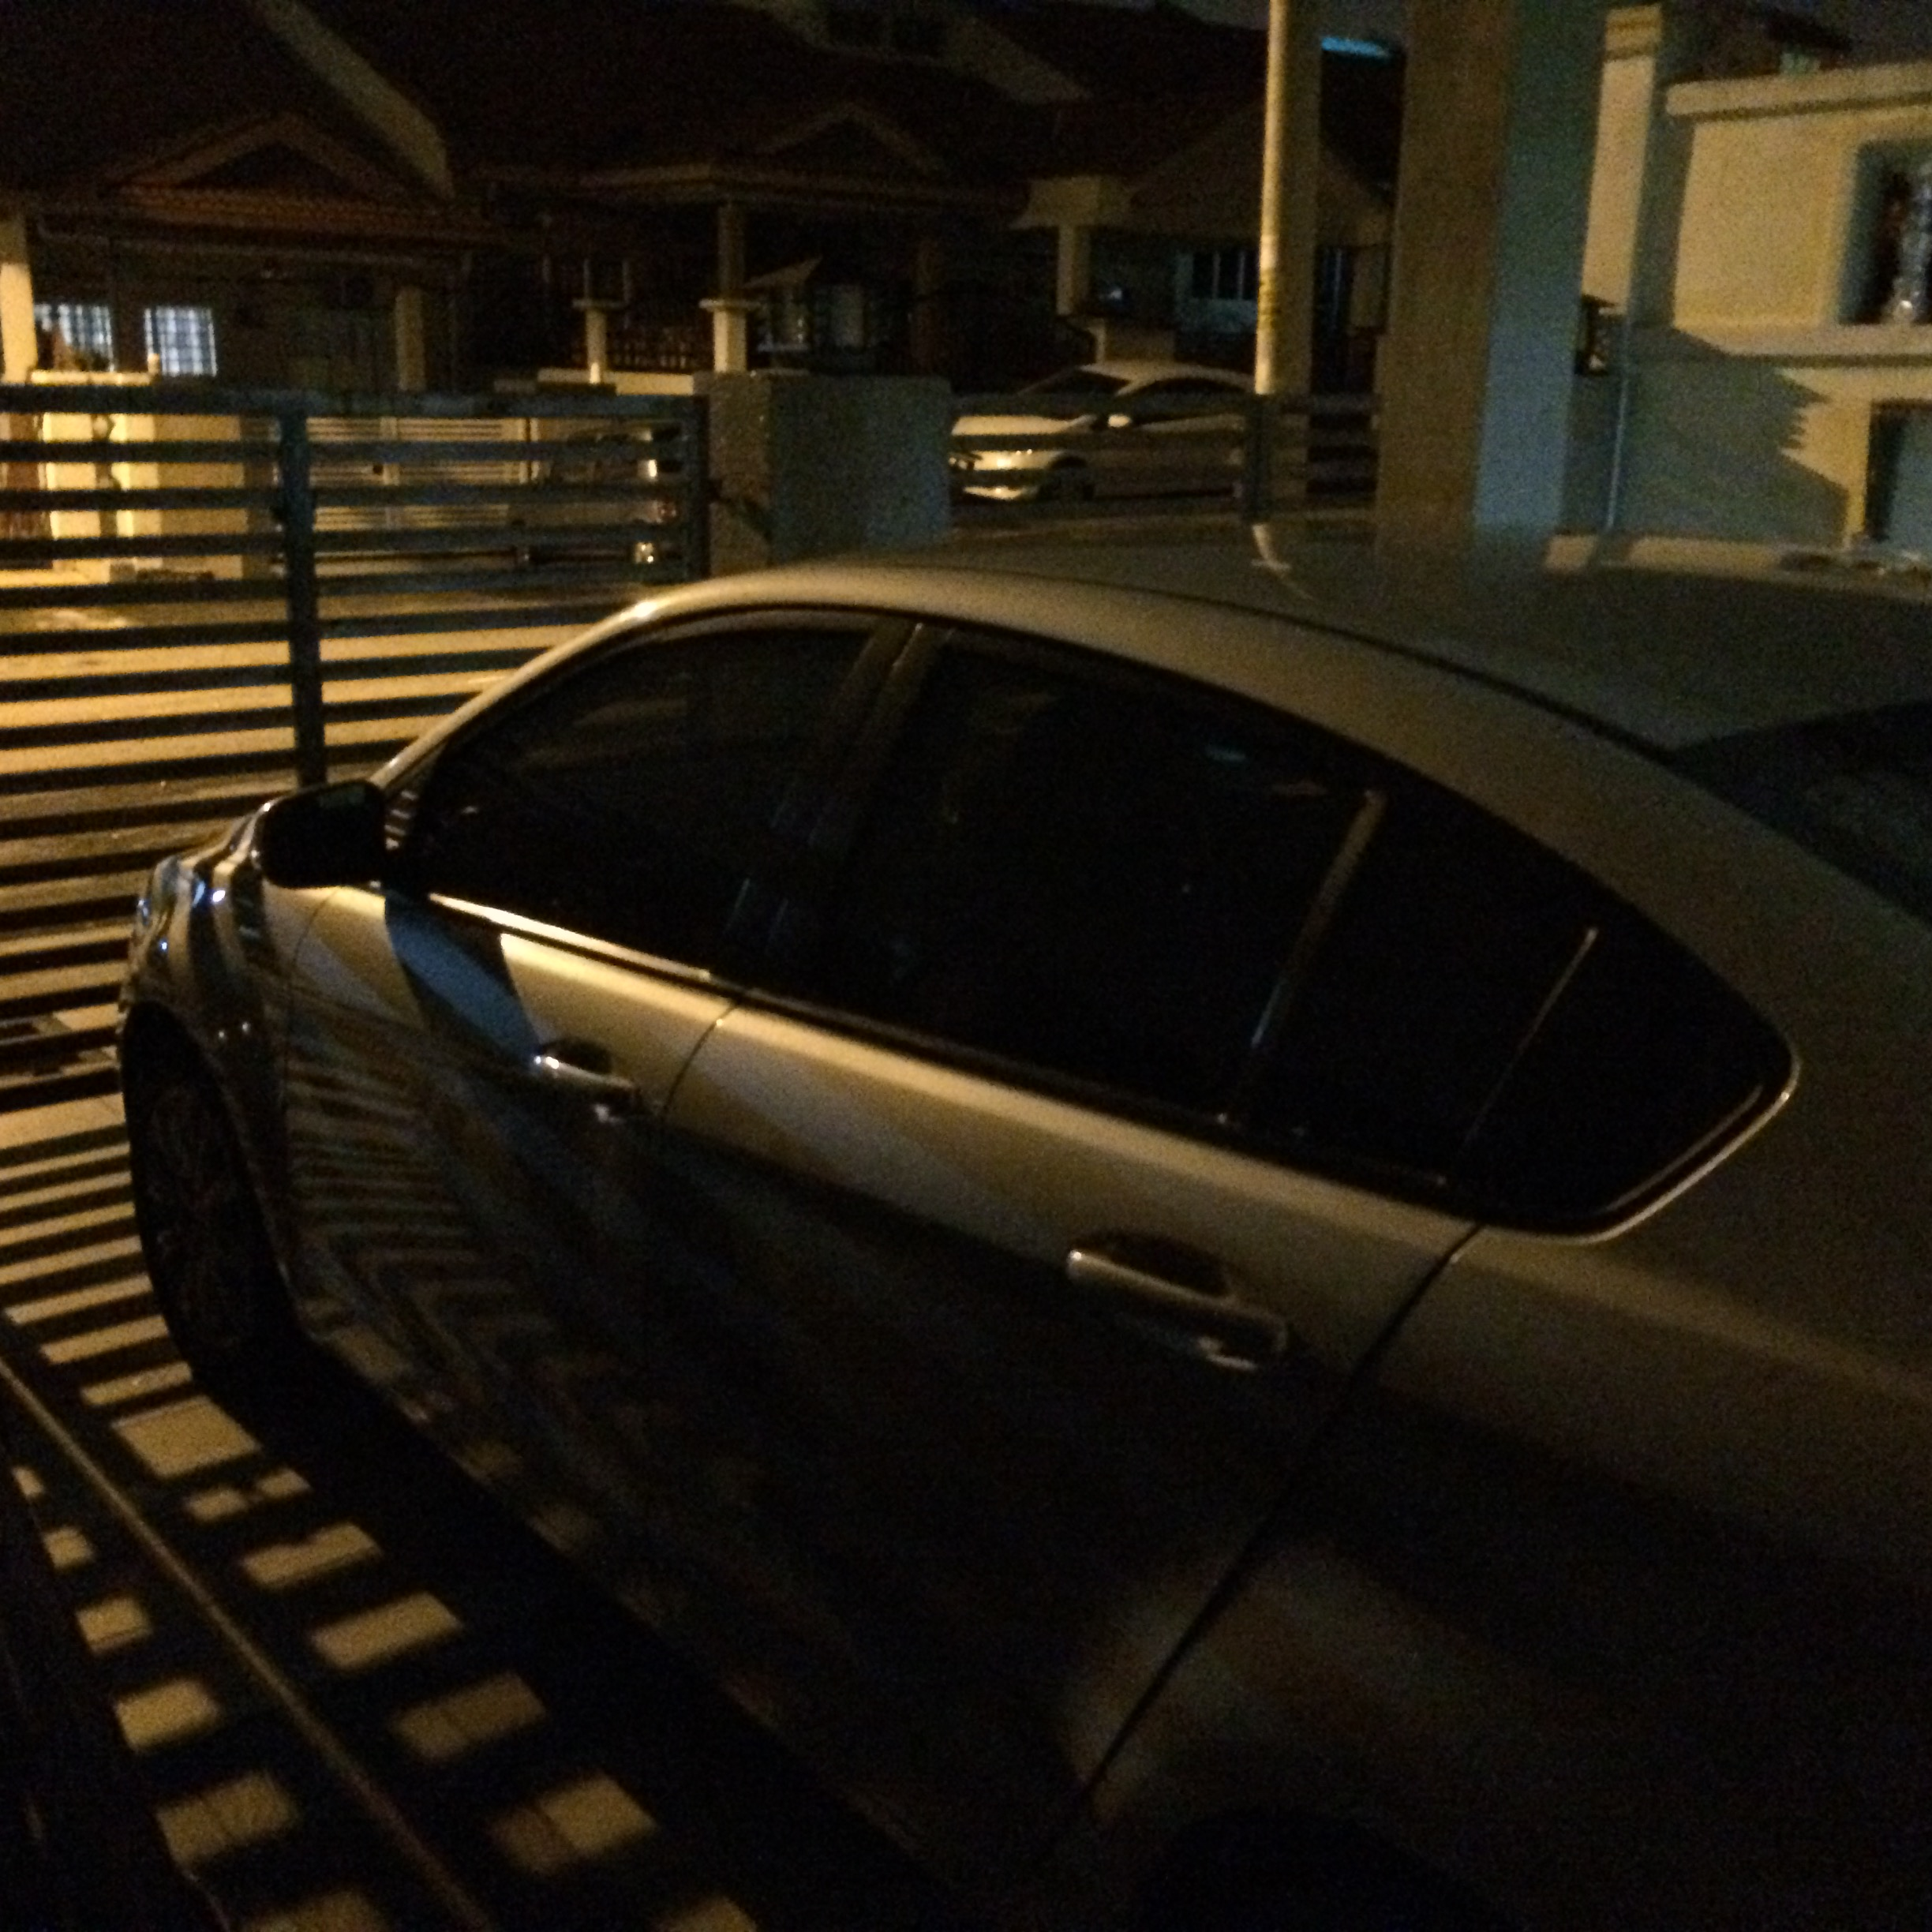car: (931, 331, 1292, 515)
